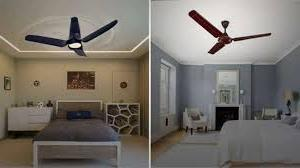bed: (32, 101, 123, 168), (222, 112, 300, 168)
chair: (181, 104, 209, 133)
fan: (180, 7, 277, 55), (24, 13, 125, 59)
light: (280, 88, 294, 117), (237, 87, 246, 105), (211, 88, 217, 105)
table: (5, 104, 52, 140), (102, 101, 142, 136)
